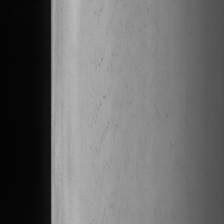silk_spot: (87, 9, 128, 162)
